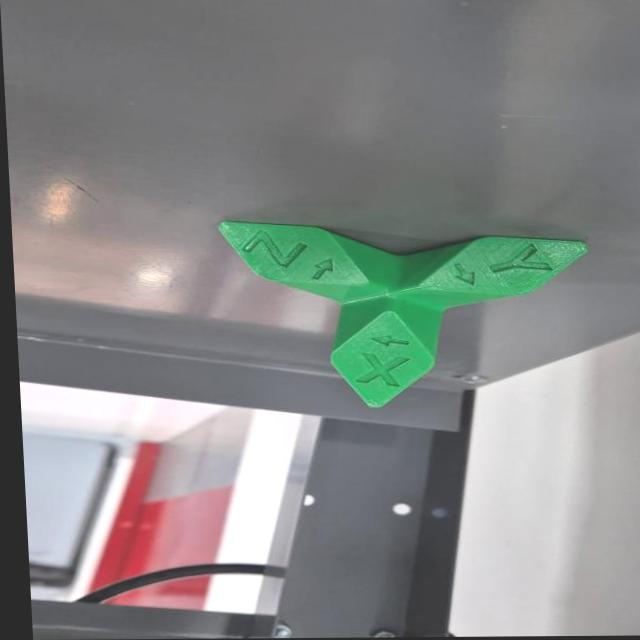eje: (209, 213, 602, 412)
